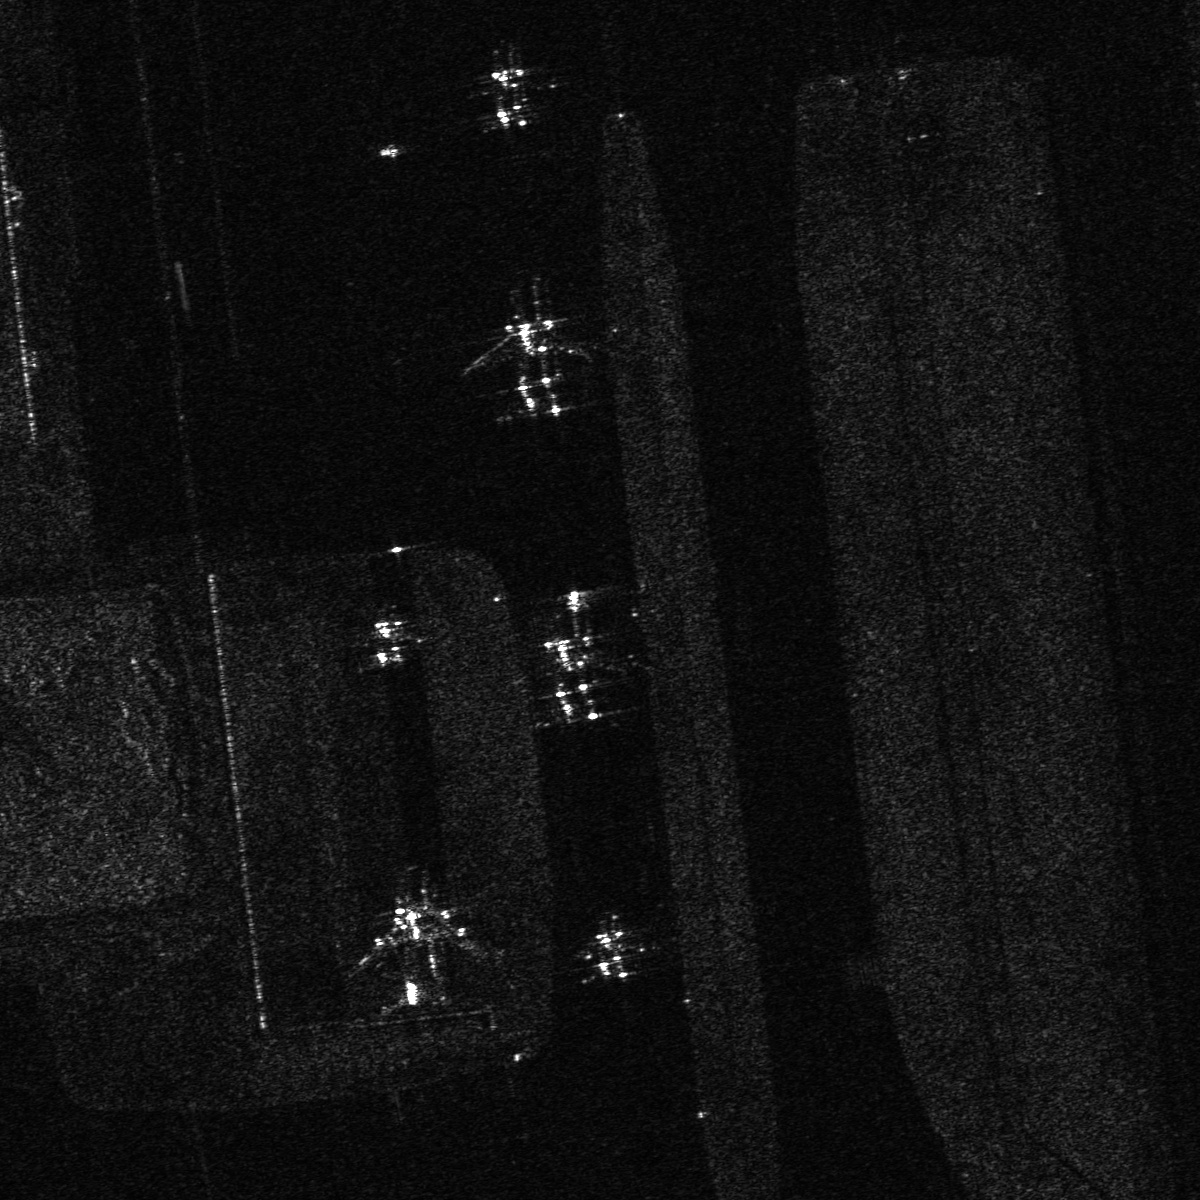A220: (348, 609, 427, 674)
A330: (560, 907, 665, 992)
Boeing787: (459, 36, 559, 134)
other: (347, 884, 489, 1014), (462, 295, 599, 422), (522, 596, 644, 731)
